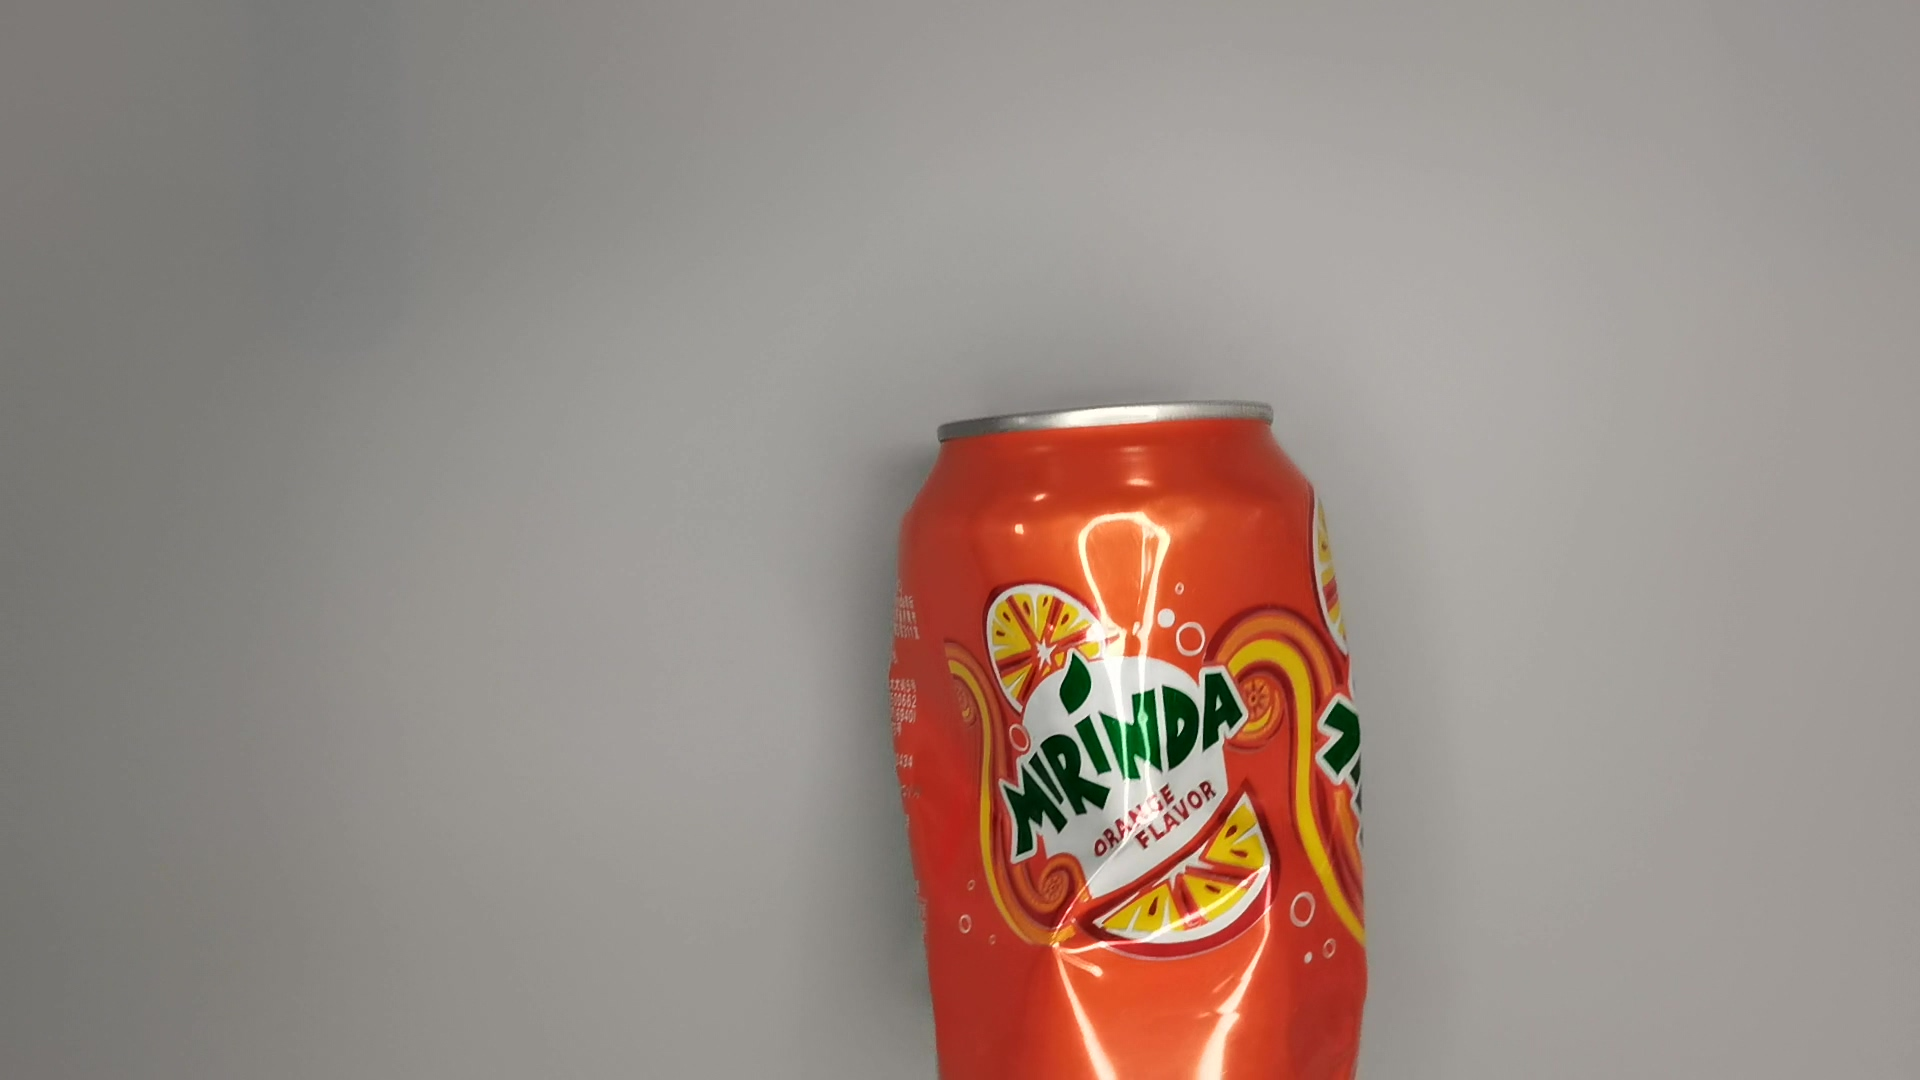can: (877, 386, 1400, 1080)
